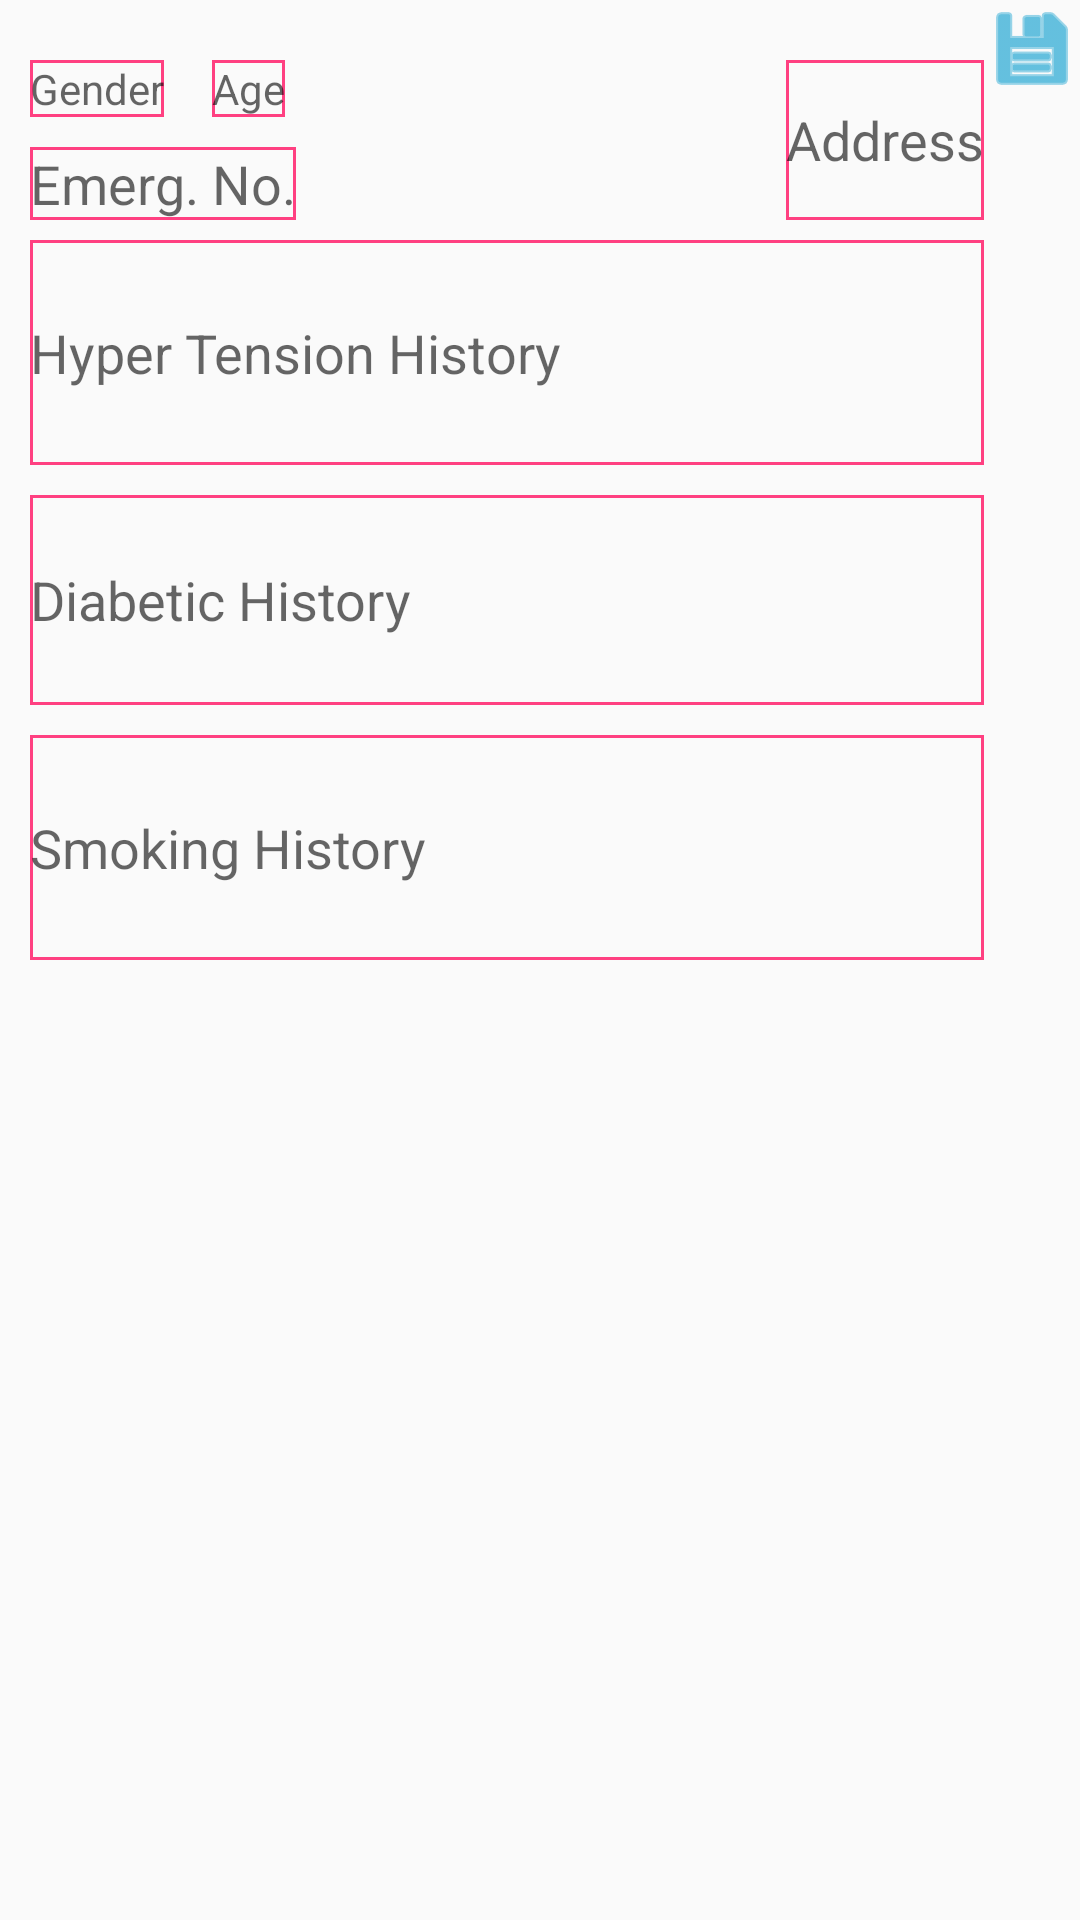

Icons on this 1080 × 1920 Android screen, each with its box as (x1, y1, x2, y2):
save: (996, 12, 1068, 85)
